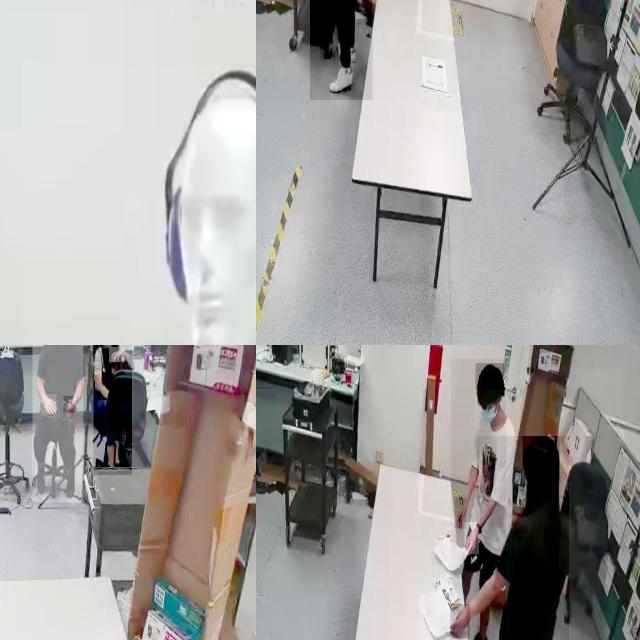Ear-protection: (152, 82, 256, 345)
face_mask: (474, 385, 502, 430)
face_nomask: (102, 345, 112, 349)
hand_noglove: (450, 604, 470, 640), (464, 522, 480, 555), (455, 498, 467, 530), (42, 394, 57, 415), (109, 347, 125, 363), (64, 396, 74, 414)
head_nohelmet: (522, 436, 560, 466), (476, 363, 504, 391)
person: (476, 436, 569, 640), (451, 358, 506, 640), (32, 345, 83, 503), (310, 0, 373, 100), (93, 345, 132, 475)
shoes: (326, 62, 354, 97), (31, 462, 50, 500), (60, 460, 78, 497)
